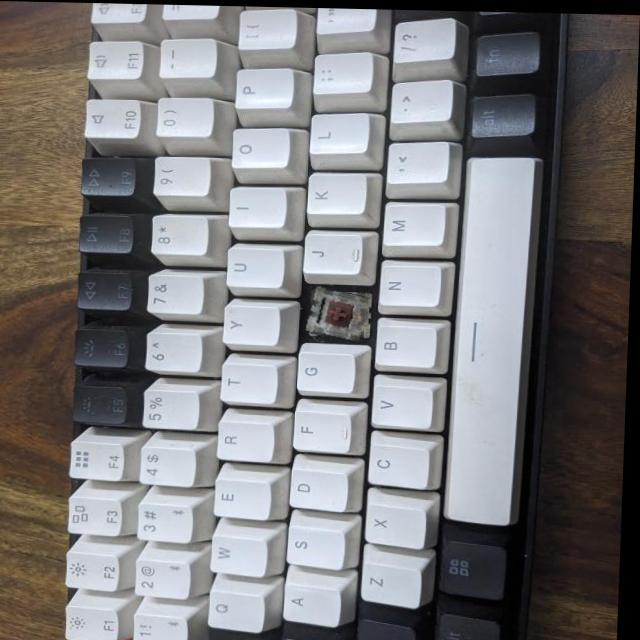key-switch: (306, 285, 370, 339)
